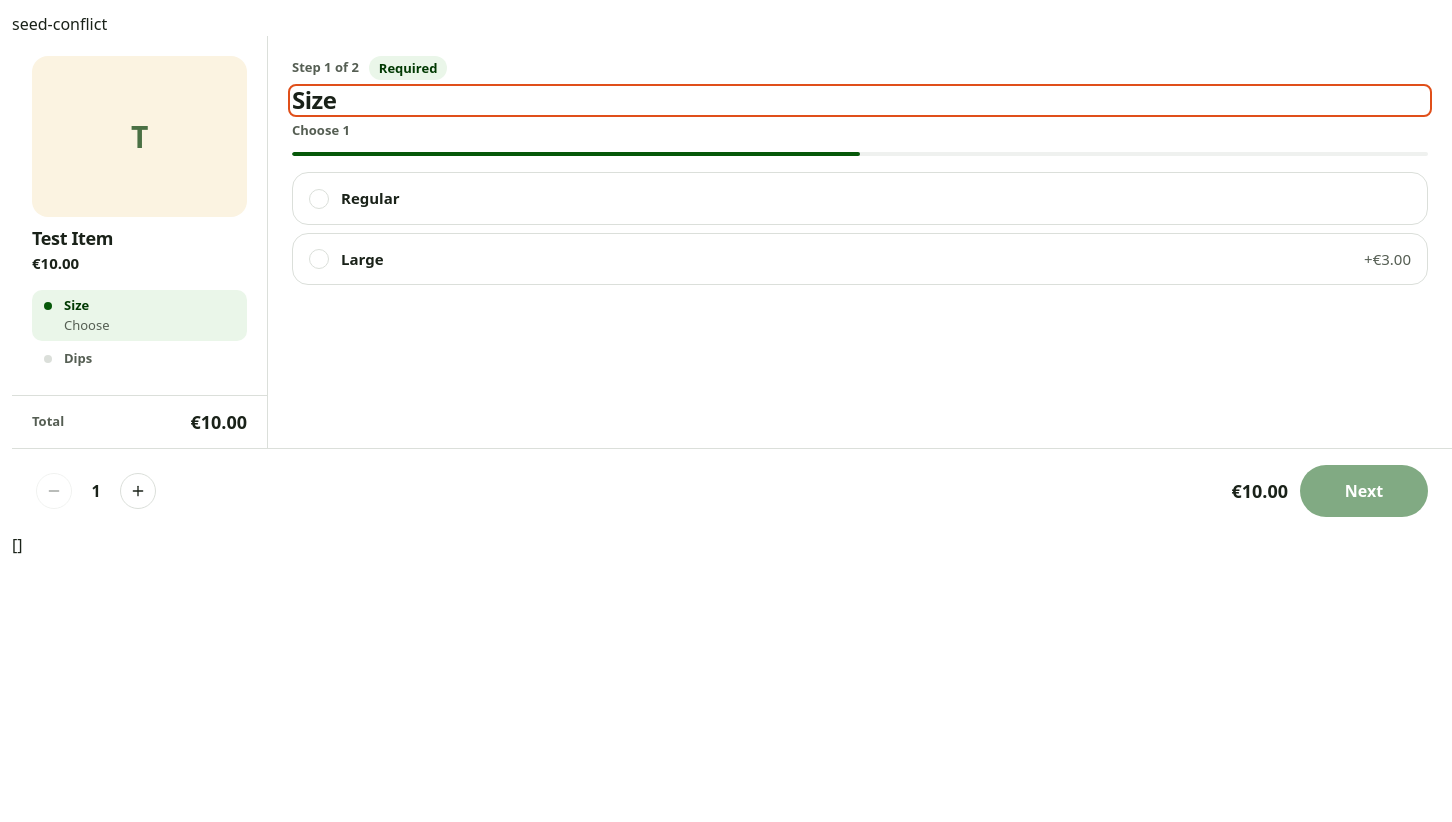
required single-choice (1×1) › gates Next until a pick, then auto-advances
expect the heading "Size" is shown: met, box [292, 83, 336, 116]
expect the button "Next" is disabled: met, box [1300, 465, 1428, 517]
Step 1. Click the radio button labelled "Regular" → (370, 198), box [292, 172, 1428, 225]
Wait 400 ms
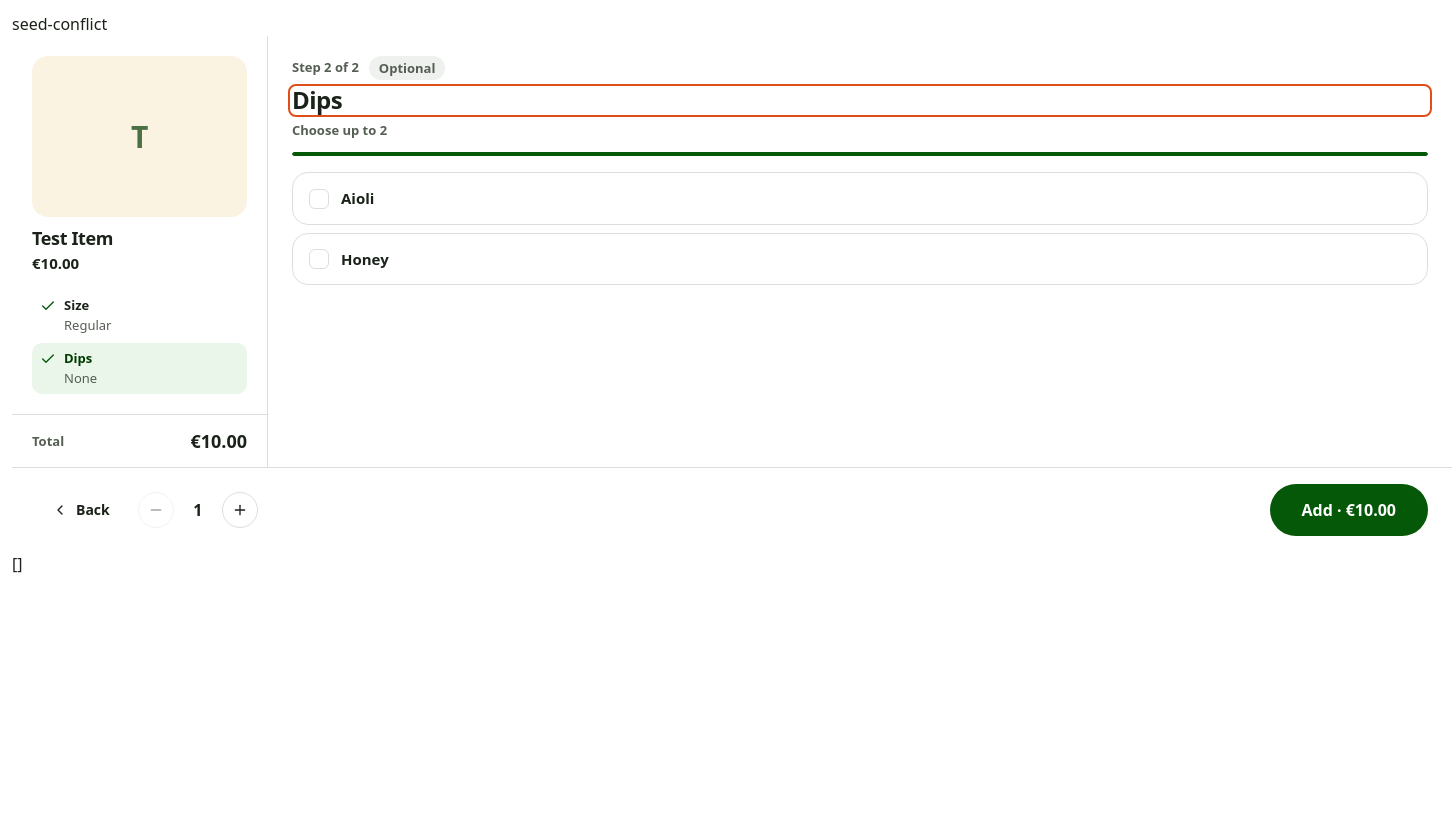
expect the heading "Dips" is shown: met, box [292, 83, 342, 116]
